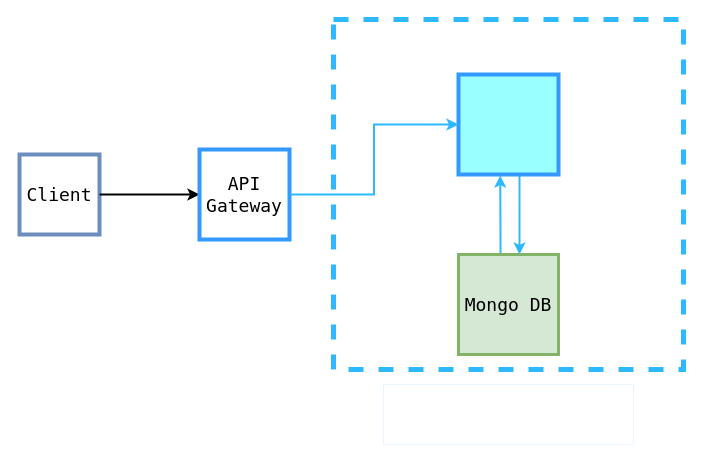
Image size: 703x462. Some labels were removed from this diagram. The centre of each missing label's shape, as x and y in pixels:
Internal docker network: (508,414)
Mongo service: (508,124)
